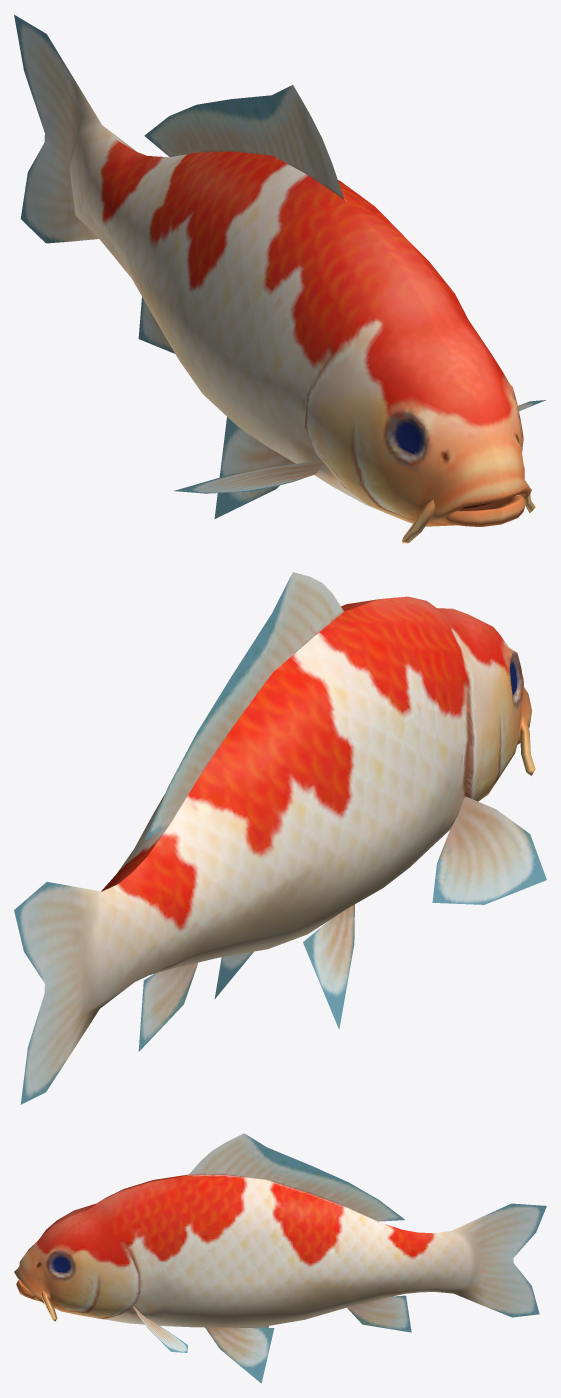
File: FishNishikigoi.glb
The picture shows the model from 3 angles, top to bottom: view 1: azimuth 30°, elevation 25°; view 2: azimuth 150°, elevation 25°; view 3: azimuth 270°, elevation 25°; orthographic projection. The views are drawn at different scales.
Visible parts, largest first — view 1: FishNishikigoi__mNishikigoi; view 2: FishNishikigoi__mNishikigoi; view 3: FishNishikigoi__mNishikigoi.
Boxes of the visible parts, <box> form: FishNishikigoi__mNishikigoi: <box>14,14,545,543</box>; FishNishikigoi__mNishikigoi: <box>14,572,546,1104</box>; FishNishikigoi__mNishikigoi: <box>14,1133,546,1383</box>.
Bounding box in the file's own units: 3.93 × 4.34 × 8.95.
1 material, 1 textured.
